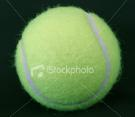tennis ball: (10, 5, 126, 114)
